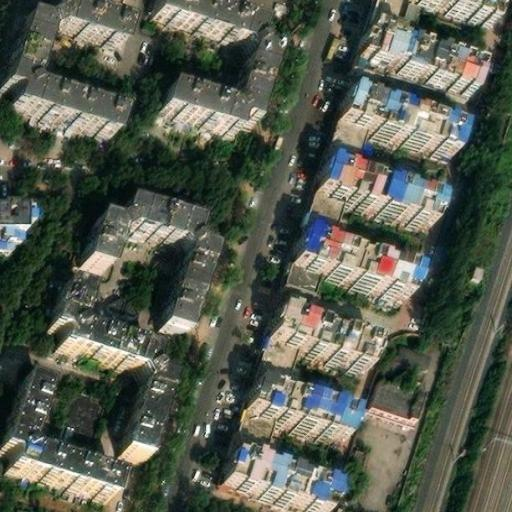building: (287, 0, 406, 283), (44, 279, 165, 458), (79, 198, 207, 334), (233, 272, 313, 456), (0, 373, 115, 498), (158, 27, 276, 134), (339, 85, 466, 154), (296, 226, 419, 297), (317, 157, 446, 224), (361, 23, 485, 90), (2, 1, 70, 112), (223, 448, 336, 512), (269, 303, 379, 368), (248, 377, 357, 437), (33, 86, 123, 136), (372, 370, 430, 416), (63, 6, 130, 45), (0, 189, 39, 243), (334, 501, 377, 512)
